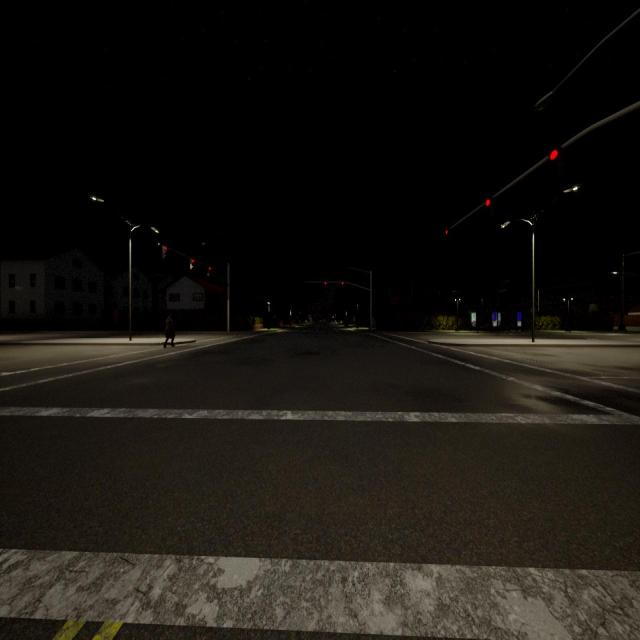Pedestrian: (163, 314, 175, 347)
traffic_light: (550, 150, 558, 160), (163, 246, 167, 258), (190, 259, 194, 269), (486, 200, 490, 206), (208, 267, 211, 275), (445, 230, 448, 234), (341, 281, 344, 285), (324, 281, 327, 284)
